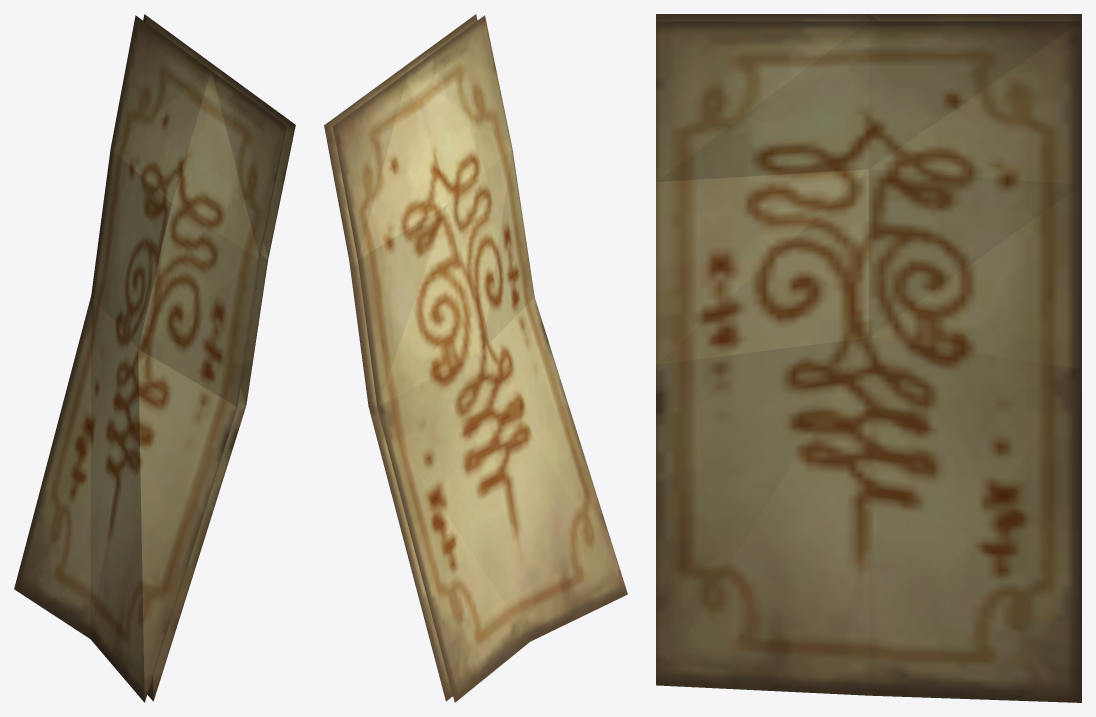
The model's file is Panda_chineseTalisman_01_chineseTalisman1.obj.
3 views of the same model, side by side, from view 1: azimuth 30°, elevation 25°; view 2: azimuth 150°, elevation 25°; view 3: azimuth 270°, elevation 25° (orthographic). The views are drawn at different scales.
Parts seen in each view (by area): view 1: Panda_chineseTalisman_01 [chineseTalisman1]; view 2: Panda_chineseTalisman_01 [chineseTalisman1]; view 3: Panda_chineseTalisman_01 [chineseTalisman1].
Boxes of the visible parts, x1,y1,x2,y2 form: Panda_chineseTalisman_01 [chineseTalisman1]: (14,14,295,702); Panda_chineseTalisman_01 [chineseTalisman1]: (324,14,627,702); Panda_chineseTalisman_01 [chineseTalisman1]: (656,14,1081,702).
Size of the model in its own units: 0.0844 by 0.2911 by 0.1466.
1 material, 1 textured.
